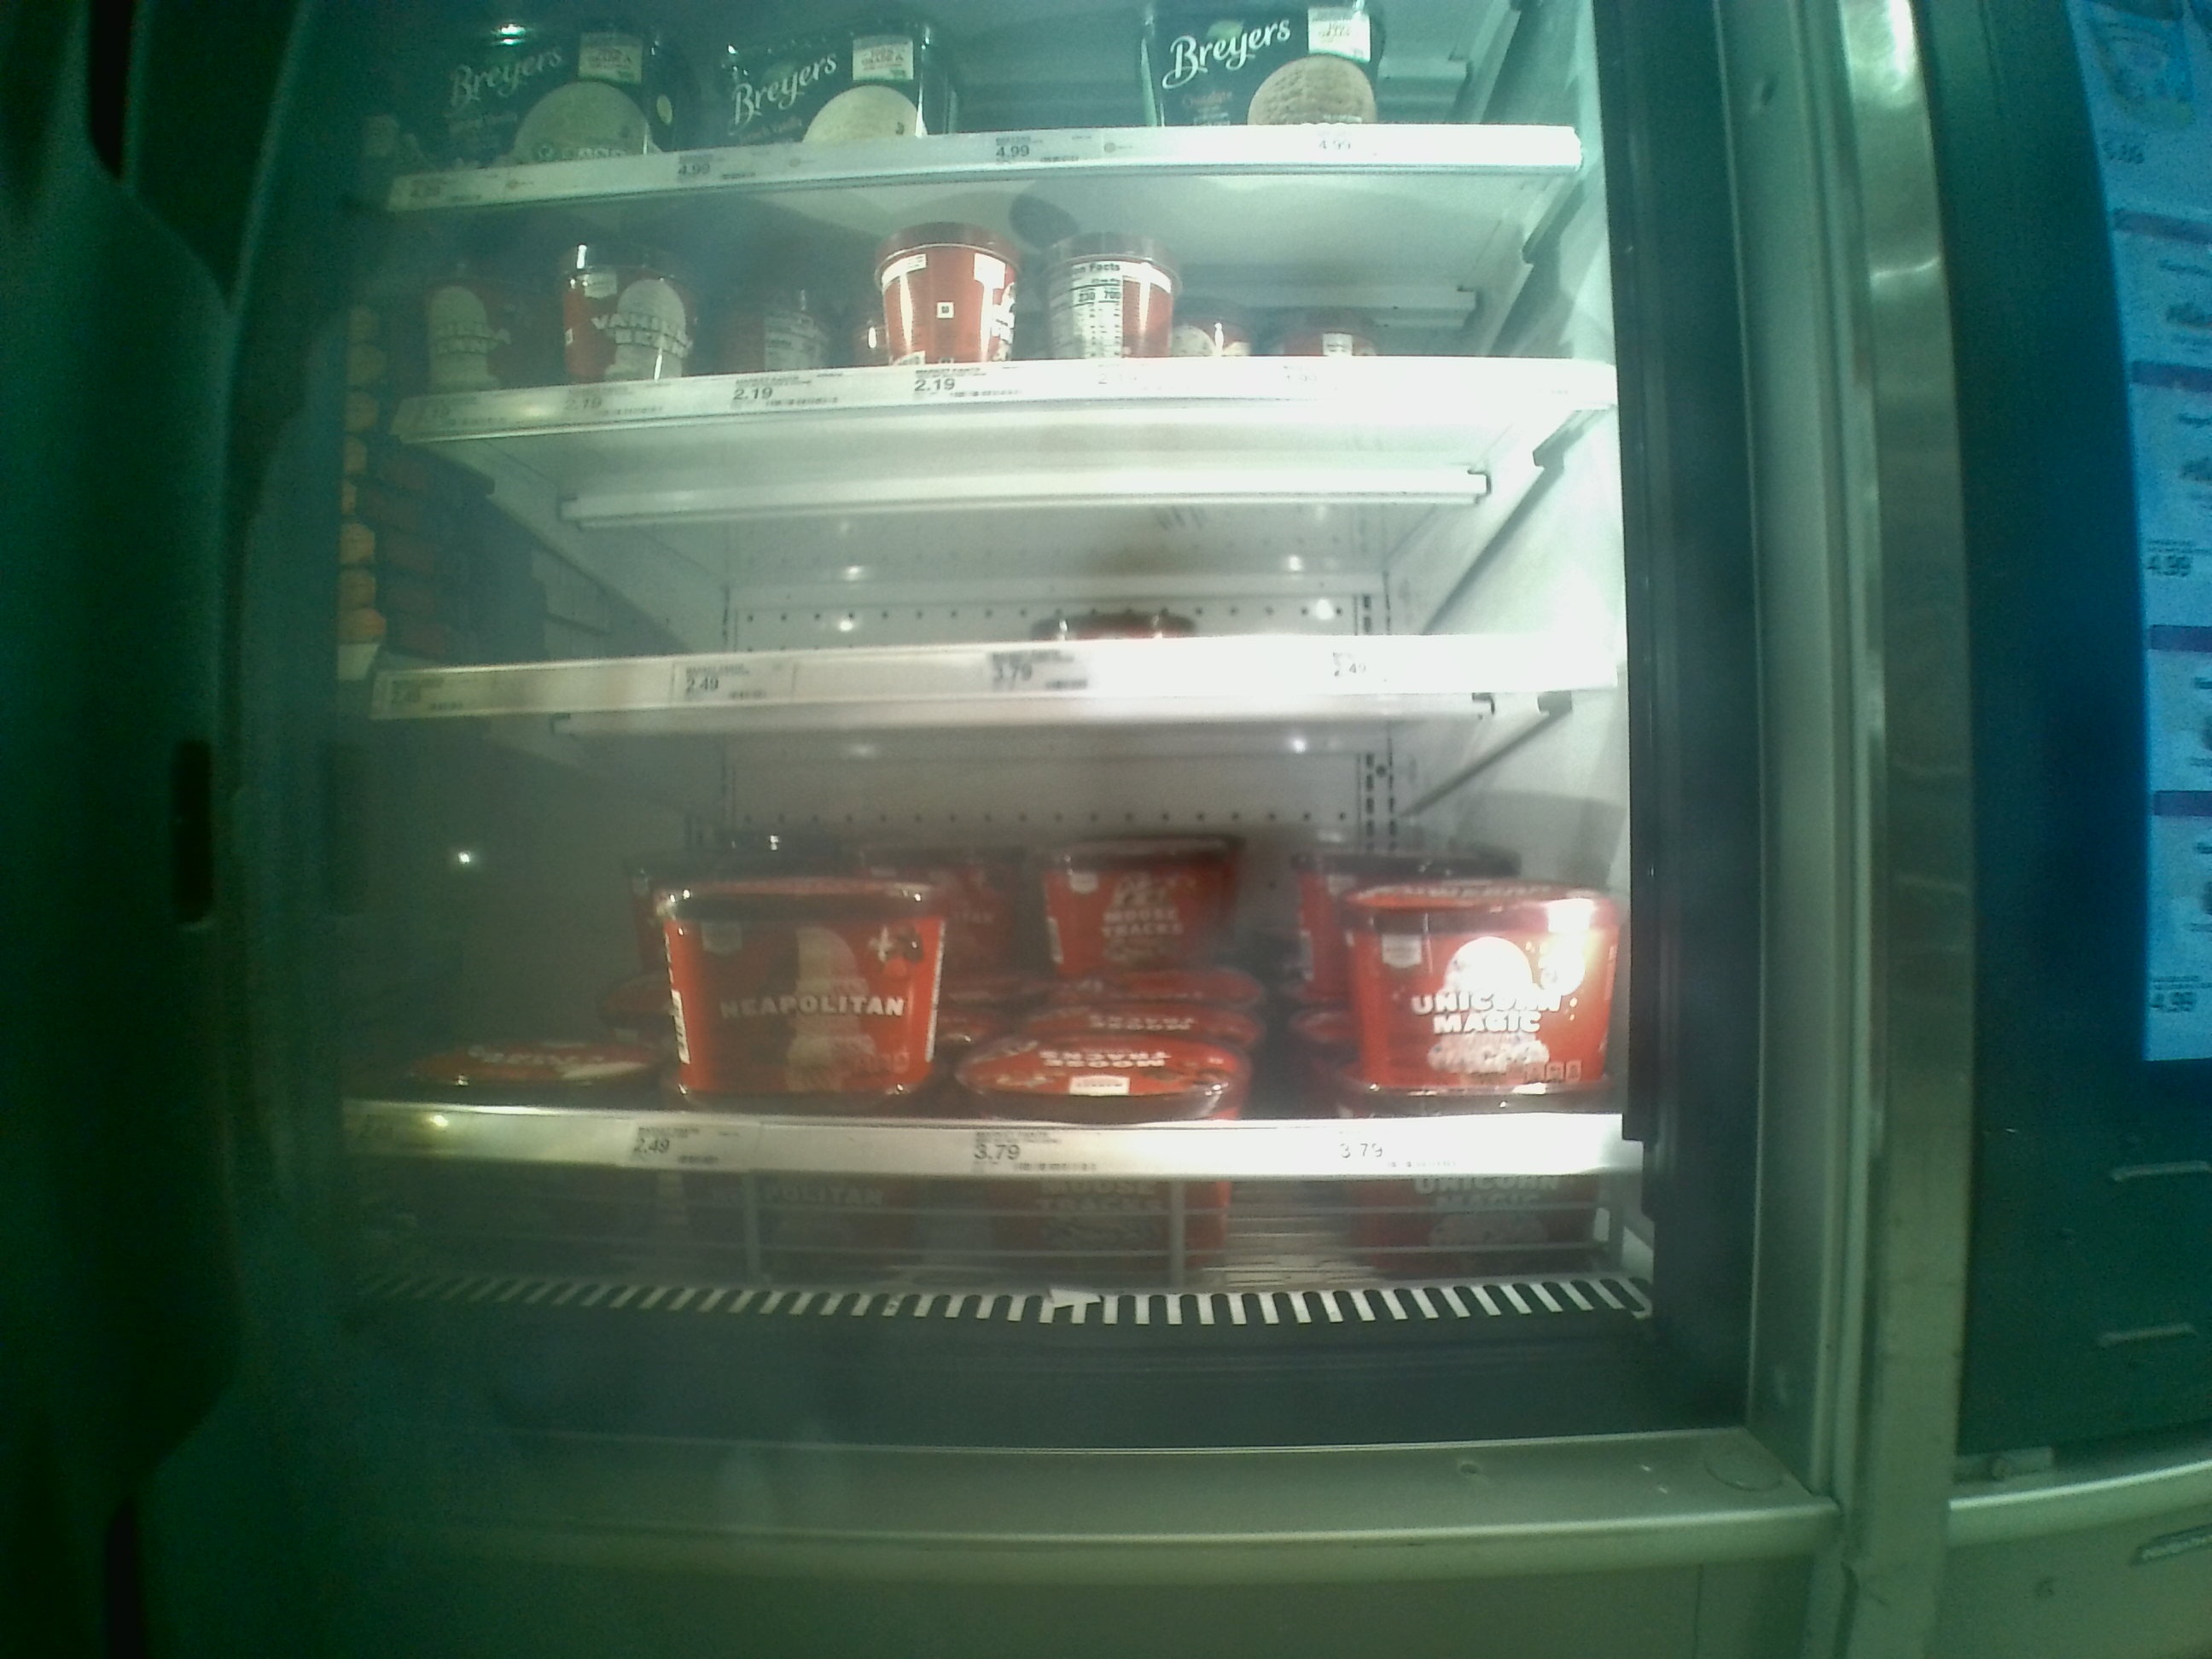ice-cream-shelf: (359, 721, 1634, 1166), (357, 427, 1629, 709), (381, 160, 1602, 408)
